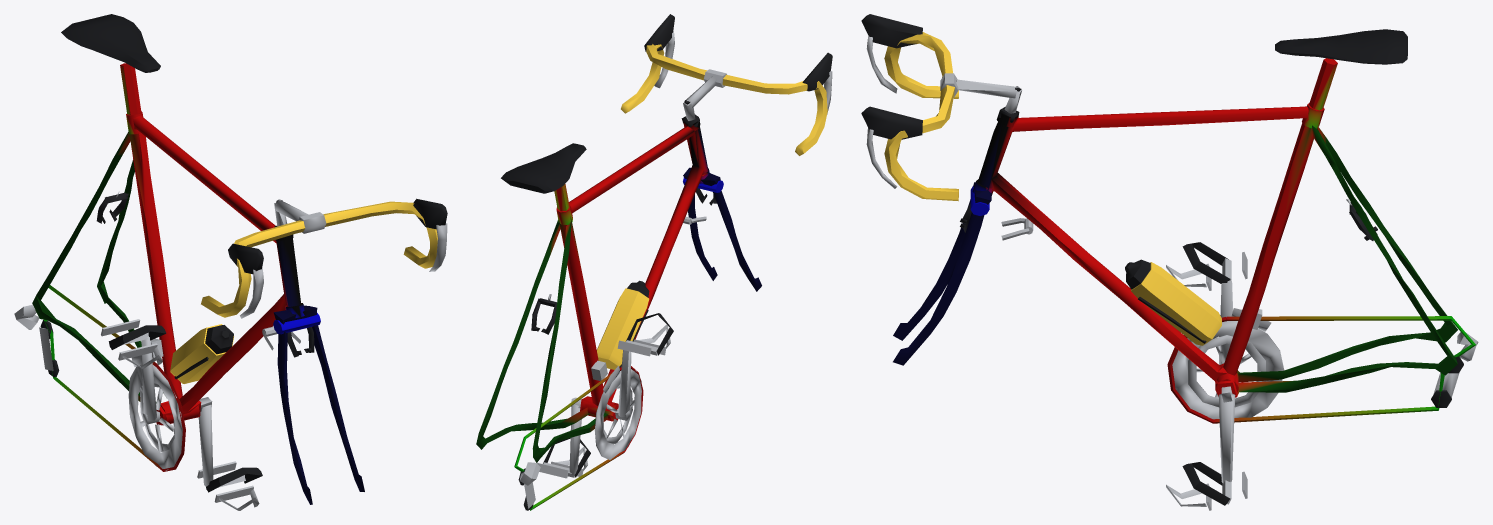
The model's file is steel_lod1.glb.
3 renders of one model, left to right at view 1: azimuth 30°, elevation 25°; view 2: azimuth 150°, elevation 25°; view 3: azimuth 270°, elevation 25°, orthographic. The views are drawn at different scales.
Parts seen in each view (by area): view 1: frame, cockpit, crankset, saddle, opt_bottles, opt_derailleur, opt_brakes_rim, opt_toeclips_R, opt_toeclips_L, pedal_R, pedal_L; view 2: frame, cockpit, crankset, opt_bottles, saddle, opt_derailleur, opt_brakes_rim, opt_toeclips_R, pedal_R, pedal_L; view 3: frame, cockpit, crankset, opt_bottles, saddle, opt_derailleur, opt_toeclips_L, opt_toeclips_R.
Part boxes in pixels (left/top/right/bottom): frame: left=32, top=63, right=364, bottom=504; cockpit: left=201, top=198, right=447, bottom=318; crankset: left=128, top=337, right=213, bottom=486; saddle: left=61, top=14, right=160, bottom=72; opt_bottles: left=170, top=324, right=234, bottom=383; opt_derailleur: left=14, top=304, right=163, bottom=377; opt_brakes_rim: left=96, top=191, right=314, bottom=357; opt_toeclips_R: left=109, top=325, right=166, bottom=368; opt_toeclips_L: left=206, top=467, right=262, bottom=510; pedal_R: left=101, top=319, right=157, bottom=360; pedal_L: left=197, top=461, right=253, bottom=502; frame: left=476, top=115, right=761, bottom=510; cockpit: left=621, top=14, right=832, bottom=155; crankset: left=569, top=350, right=641, bottom=475; opt_bottles: left=596, top=280, right=649, bottom=369; saddle: left=501, top=143, right=586, bottom=193; opt_derailleur: left=518, top=360, right=619, bottom=510; opt_brakes_rim: left=531, top=188, right=716, bottom=334; opt_toeclips_R: left=625, top=313, right=673, bottom=355; pedal_R: left=617, top=339, right=666, bottom=356; pedal_L: left=537, top=461, right=583, bottom=478; frame: left=893, top=58, right=1475, bottom=423; cockpit: left=861, top=14, right=1021, bottom=201; crankset: left=1172, top=280, right=1284, bottom=483; opt_bottles: left=1125, top=259, right=1221, bottom=345; saddle: left=1275, top=29, right=1407, bottom=64; opt_derailleur: left=1231, top=308, right=1478, bottom=407; opt_toeclips_L: left=1166, top=462, right=1229, bottom=506; opt_toeclips_R: left=1166, top=242, right=1229, bottom=287.
Size of the model in its own units: 0.4646 by 0.8843 by 1.13.
